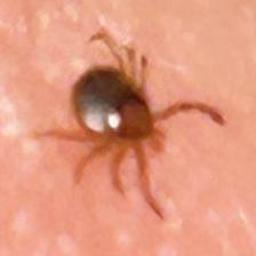Rhipicephalus sanguineus: (34, 30, 226, 219)
